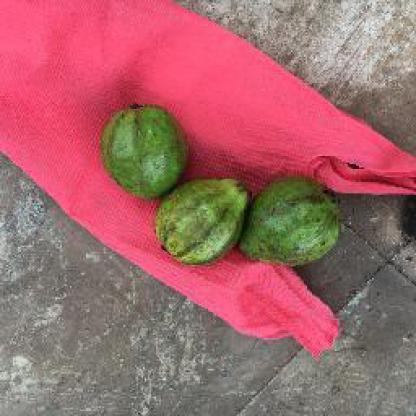guava: (239, 175, 343, 273), (154, 175, 246, 265), (98, 104, 192, 192)
